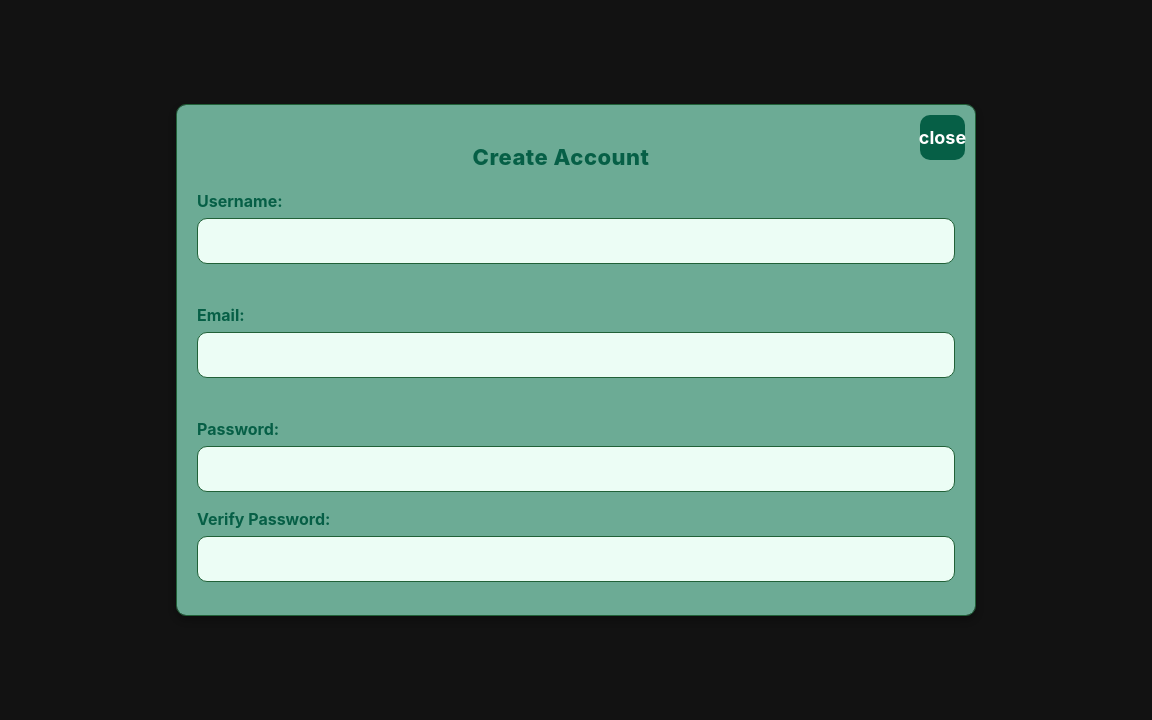
Scenario: CreateAccount › password validation › should show an error when passwords do not match
This screenshot has width=1152, height=720.
Type "newuser" into the field labelled "Username:".
click(576, 241); type("newuser")  # box [197,218,955,264]
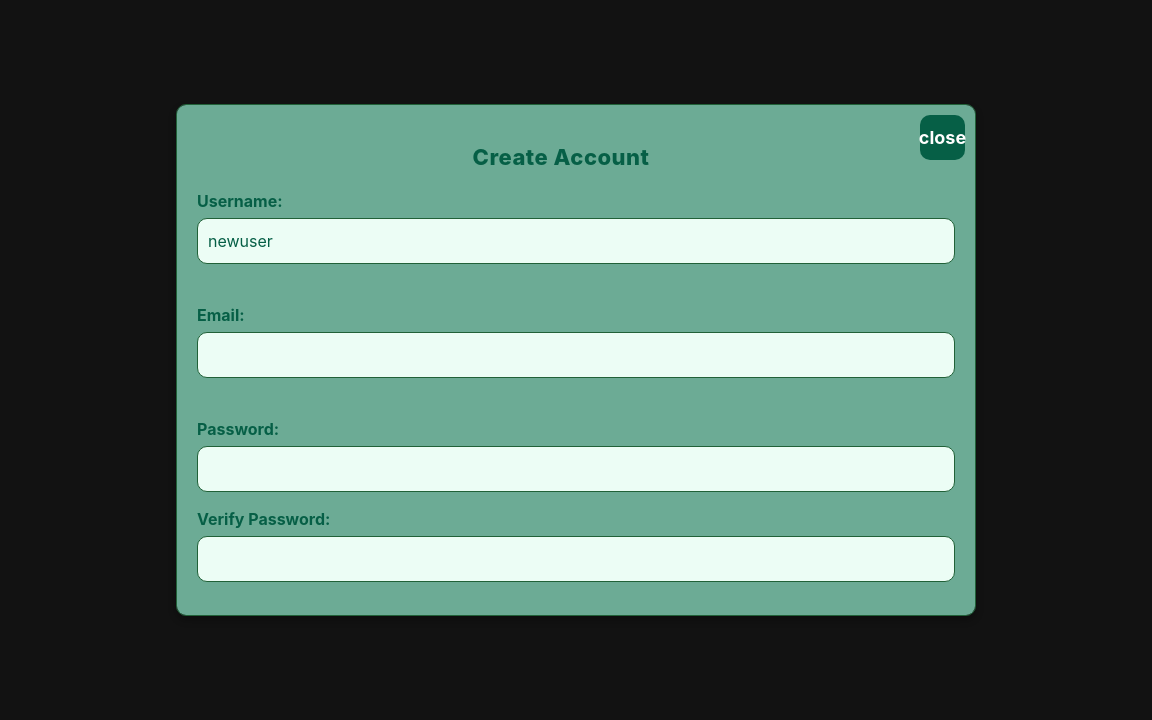
Type "newuser@example.com" into the field labelled "Email:".
click(576, 355); type("newuser@example.com")  # box [197,332,955,378]
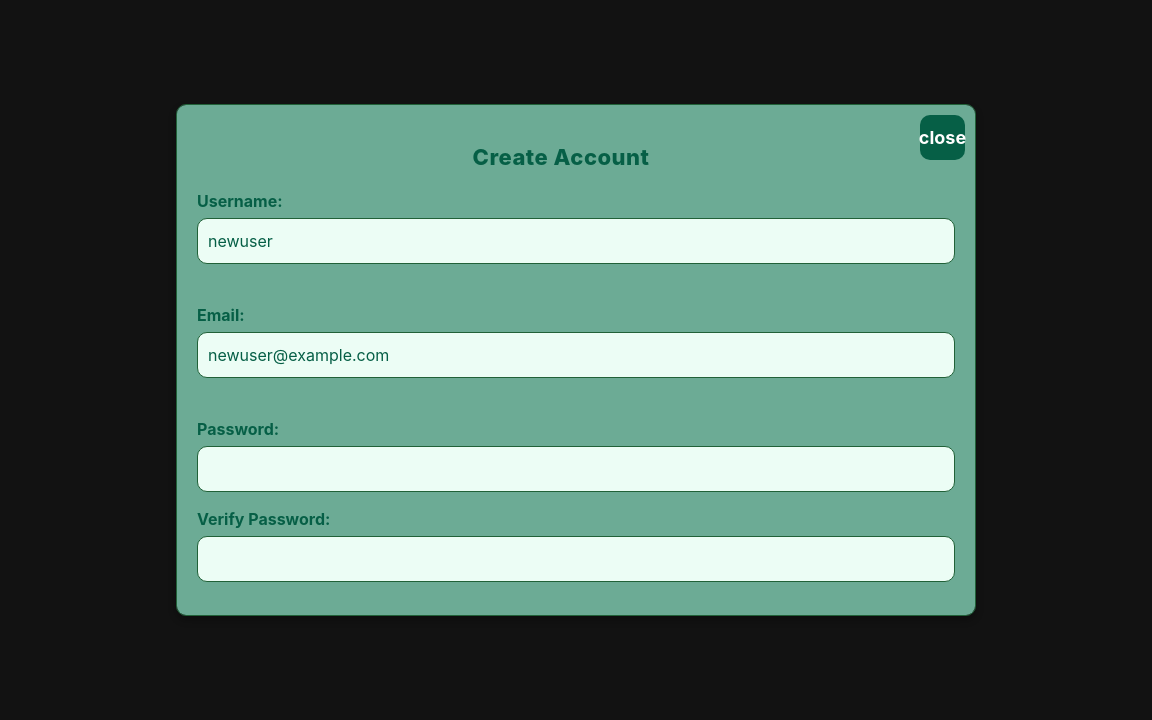
Type "Password123!" into the password field labelled "Password:".
click(576, 469); type("Password123!")  # box [197,446,955,492]
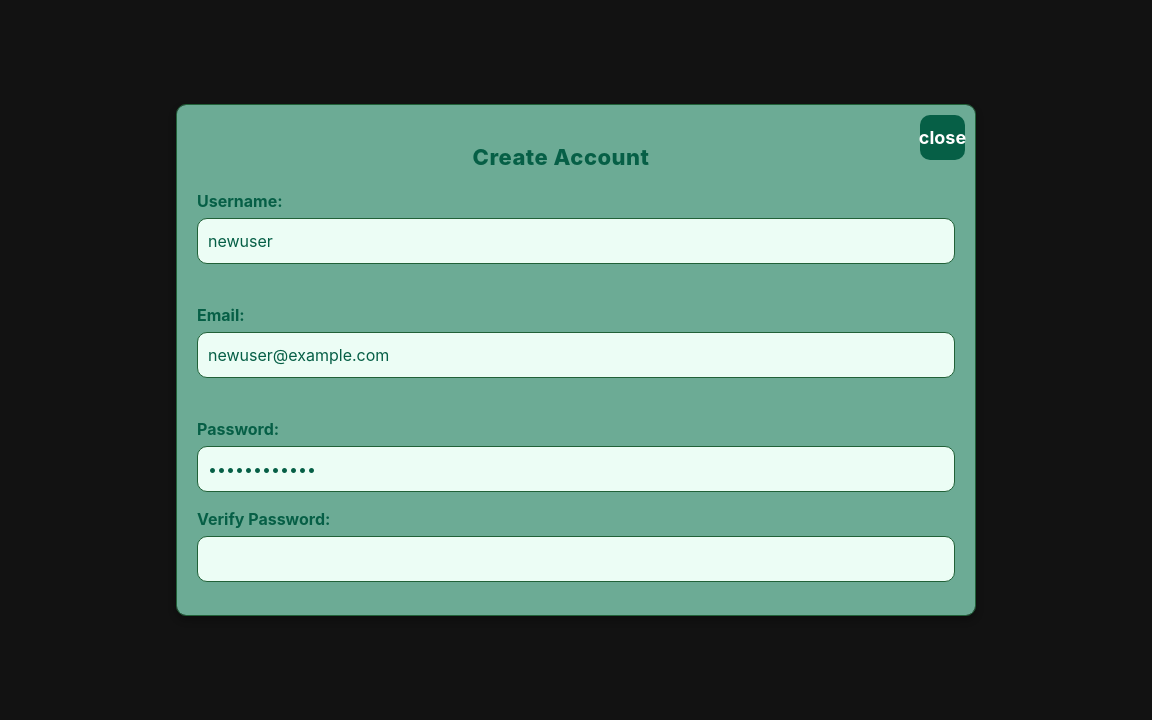
Type "Password321!" into the password field labelled "Verify Password:".
click(576, 559); type("Password321!")  # box [197,536,955,582]
(page scrolled)
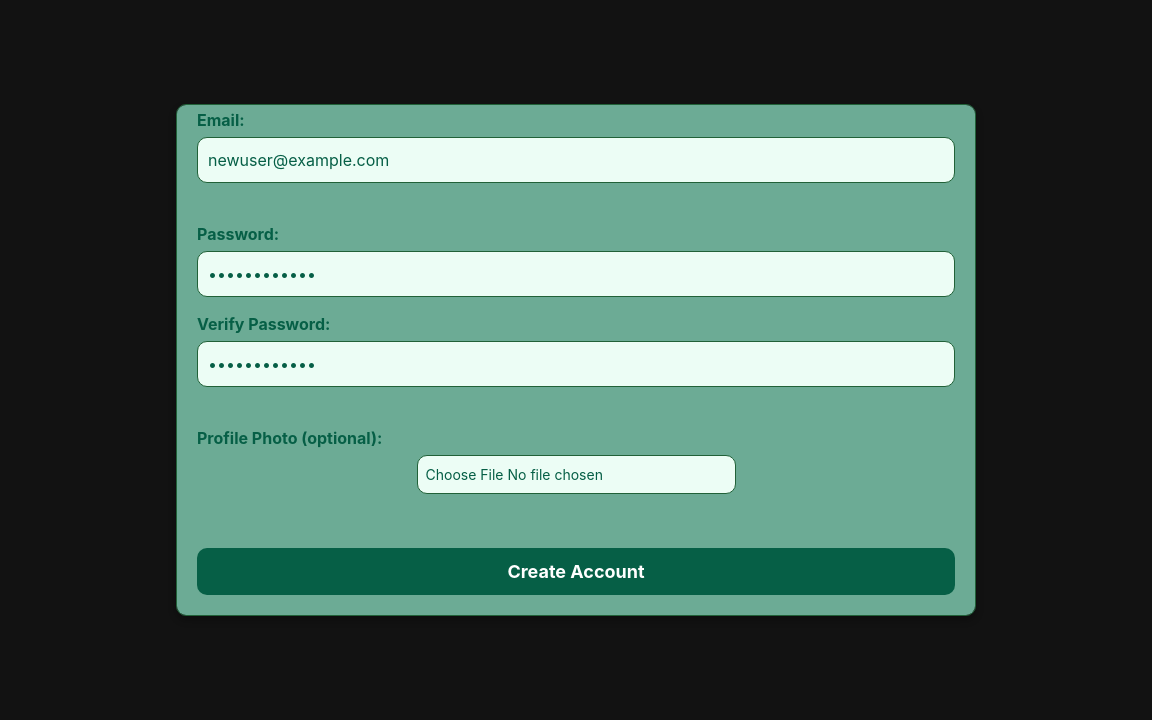
Click the button "Create Account".
click(576, 572)  # box [197,548,955,595]
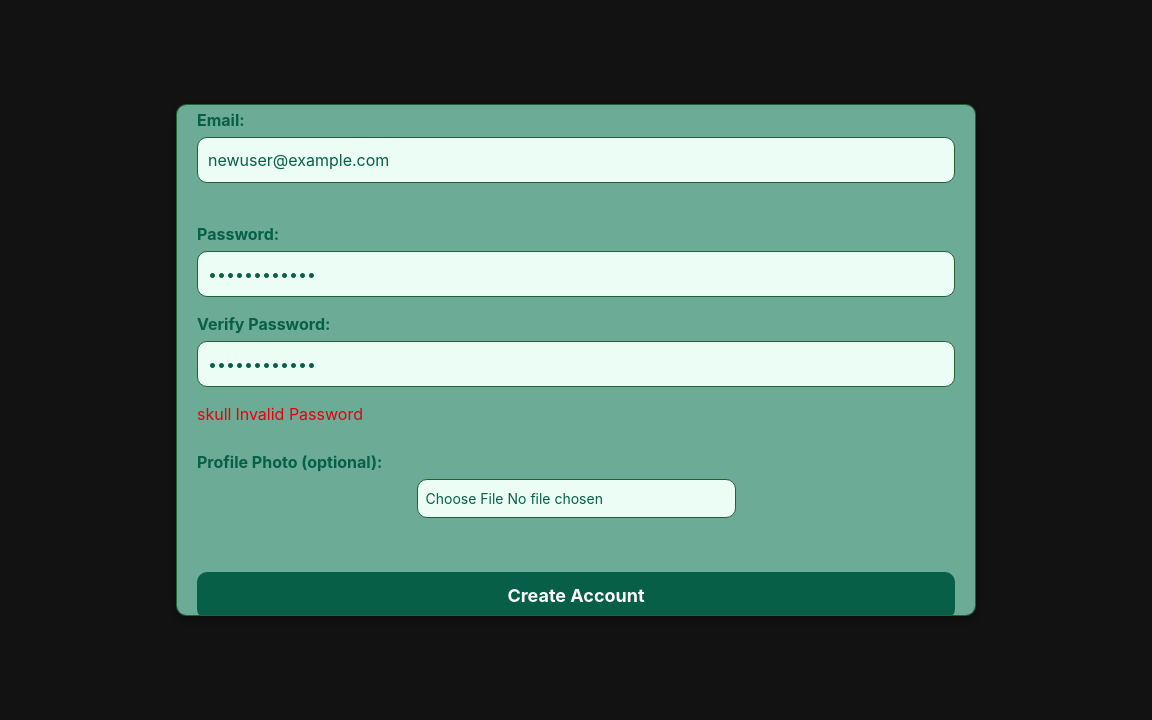
Expected: the text "skull Invalid Password" is shown, [197,404,363,424]
